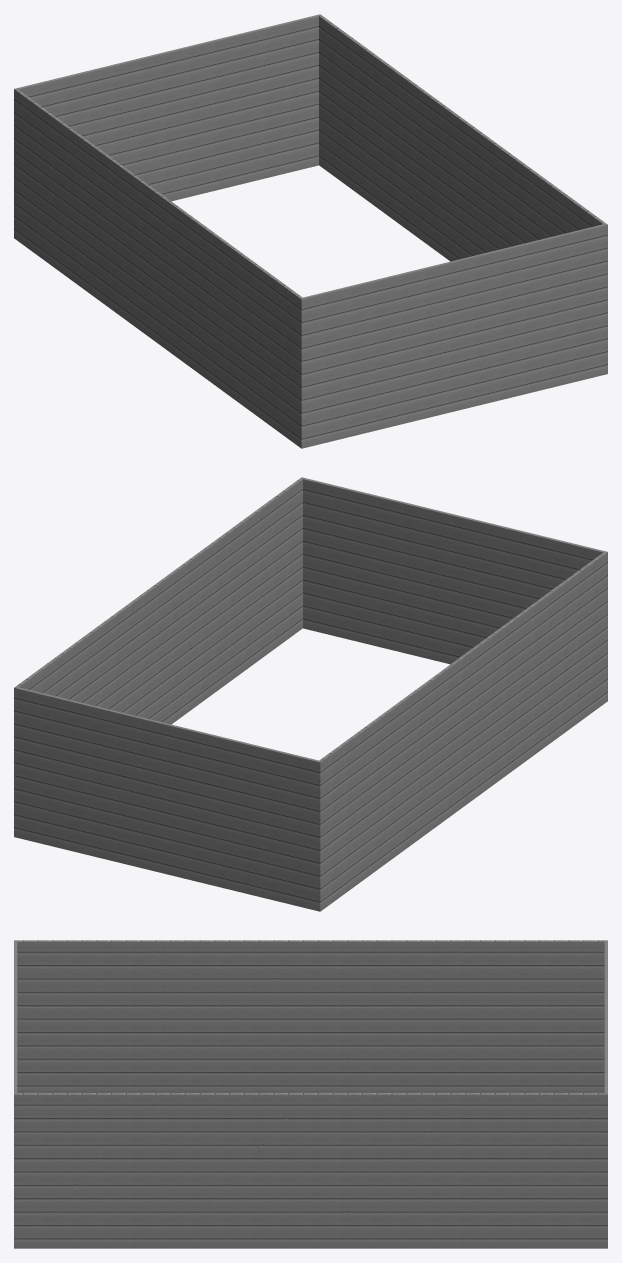
Rendered from exteriorGf.glb.
3 views of the same model, one above another, from view 1: azimuth 30°, elevation 25°; view 2: azimuth 150°, elevation 25°; view 3: azimuth 270°, elevation 25° (orthographic). The views are drawn at different scales.
Visible parts, largest first — view 1: exteriorwall; view 2: exteriorwall; view 3: exteriorwall.
Boxes of the visible parts, bbox=[...] form: exteriorwall: bbox=[14, 14, 607, 448]; exteriorwall: bbox=[14, 477, 607, 911]; exteriorwall: bbox=[14, 940, 607, 1248].
Size of the model in its own units: 6.12 by 2.85 by 9.96.
Materials: 1 (1 with a texture image).
